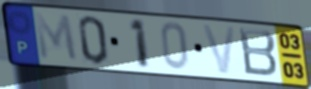0: (77, 14, 111, 68), (158, 20, 191, 73)
1: (128, 17, 153, 72)
B: (237, 26, 280, 79)
M: (32, 11, 80, 64)
V: (200, 23, 238, 76)
